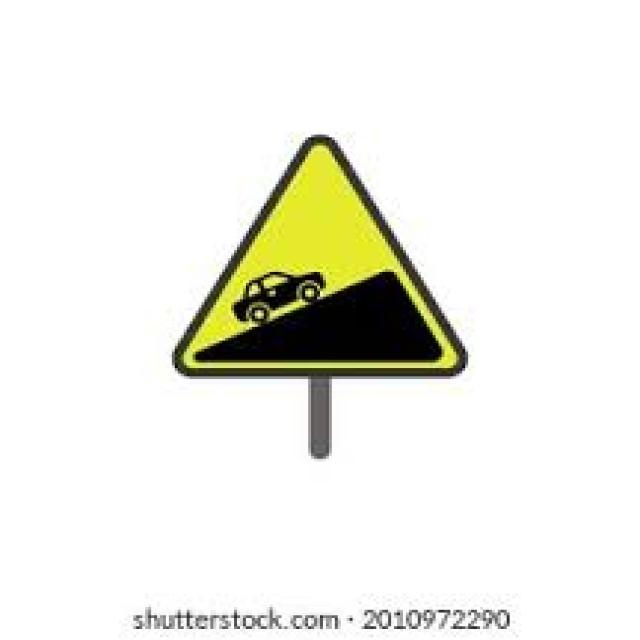steep ascent: (161, 128, 474, 375)
